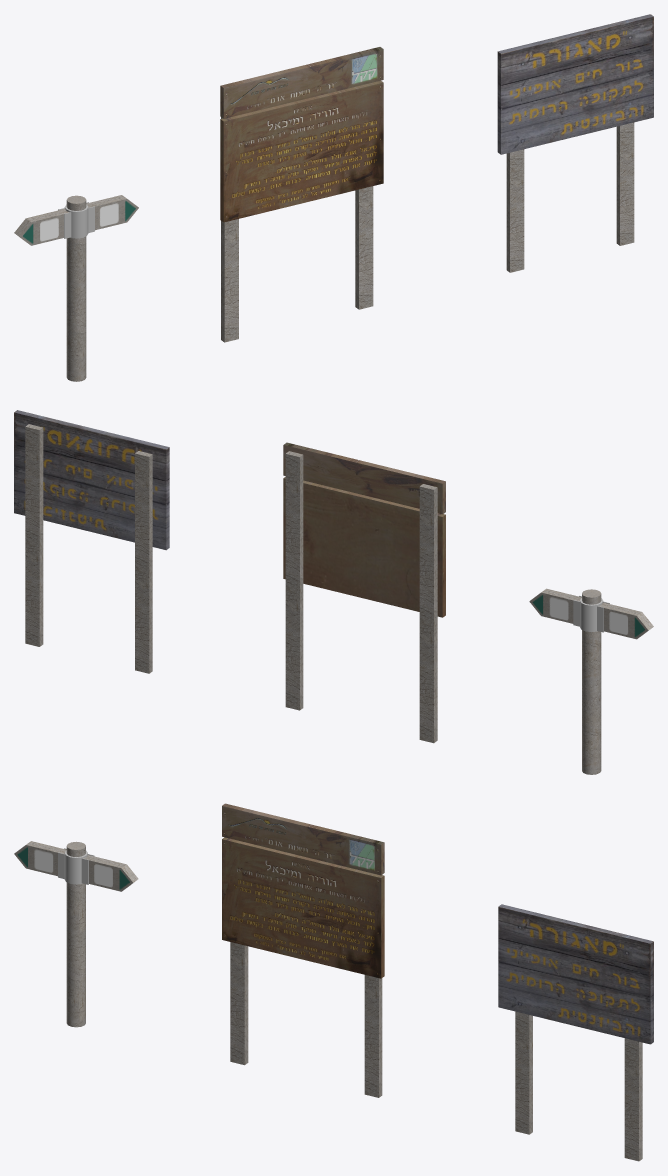
The model's file is carteles varios.FBX.
3 renders of one model, top to bottom at view 1: azimuth 30°, elevation 25°; view 2: azimuth 150°, elevation 25°; view 3: azimuth 330°, elevation 25°, orthographic.
Visible parts, largest first — view 1: cartel de entrada, cartel de 4-, Cylinder001, cartele direccione, Box004, Box006, Box005, Box003, Cylinder002; view 2: cartel de entrada, cartel de 4-, Box003, Box004, Box006, Box005, Cylinder001, cartele direccione; view 3: cartel de entrada, cartel de 4-, Cylinder001, cartele direccione, Box006, Box004, Box003, Box005, Cylinder002.
Part boxes in pixels (x1,y1,x2,y2): cartel de entrada: [220, 47, 383, 222]; cartel de 4-: [497, 14, 653, 154]; Cylinder001: [66, 195, 86, 381]; cartele direccione: [14, 195, 138, 245]; Box004: [355, 186, 373, 309]; Box006: [616, 122, 634, 245]; Box005: [506, 149, 524, 272]; Box003: [221, 117, 238, 342]; Cylinder002: [64, 204, 88, 238]; cartel de entrada: [283, 442, 445, 617]; cartel de 4-: [14, 410, 169, 550]; Box003: [419, 484, 437, 743]; Box004: [285, 451, 303, 710]; Box006: [25, 424, 43, 646]; Box005: [135, 451, 152, 673]; Cylinder001: [582, 589, 601, 774]; cartele direccione: [529, 588, 653, 639]; cartel de entrada: [222, 803, 384, 978]; cartel de 4-: [498, 904, 653, 1044]; Cylinder001: [66, 841, 85, 1027]; cartele direccione: [14, 841, 138, 891]; Box006: [624, 1038, 642, 1161]; Box004: [364, 975, 382, 1097]; Box003: [230, 942, 248, 1065]; Box005: [515, 1011, 532, 1134]; Cylinder002: [64, 850, 87, 884].
Size of the model in its own units: 7.49 by 2.91 by 0.2609.
